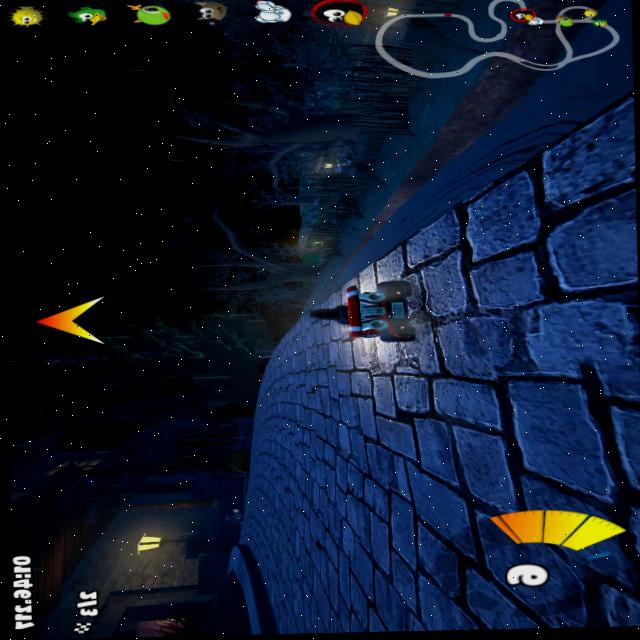player_kart: (293, 272, 431, 345)
track: (419, 226, 640, 631), (321, 343, 404, 633), (394, 346, 430, 631), (249, 423, 320, 560), (509, 175, 634, 229), (263, 559, 319, 634), (264, 367, 314, 430), (237, 510, 252, 542)
